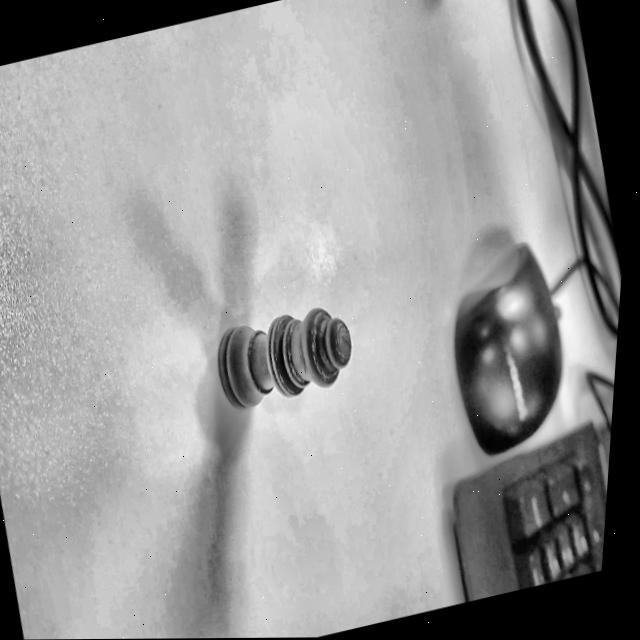black-queen: (195, 282, 370, 421)
